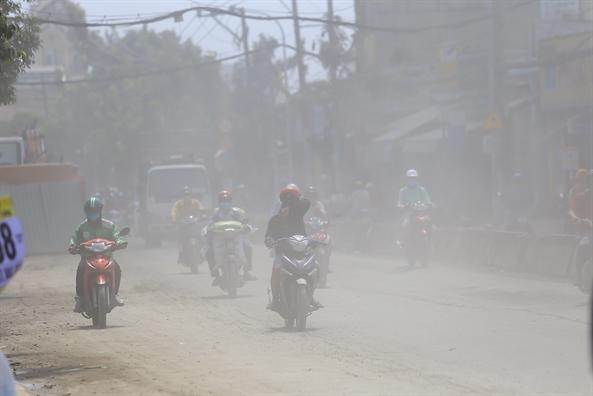motorcycle: (272, 235, 326, 330), (69, 236, 123, 328), (403, 200, 433, 267), (174, 214, 205, 270), (308, 216, 333, 272)
truck: (140, 162, 208, 238)
